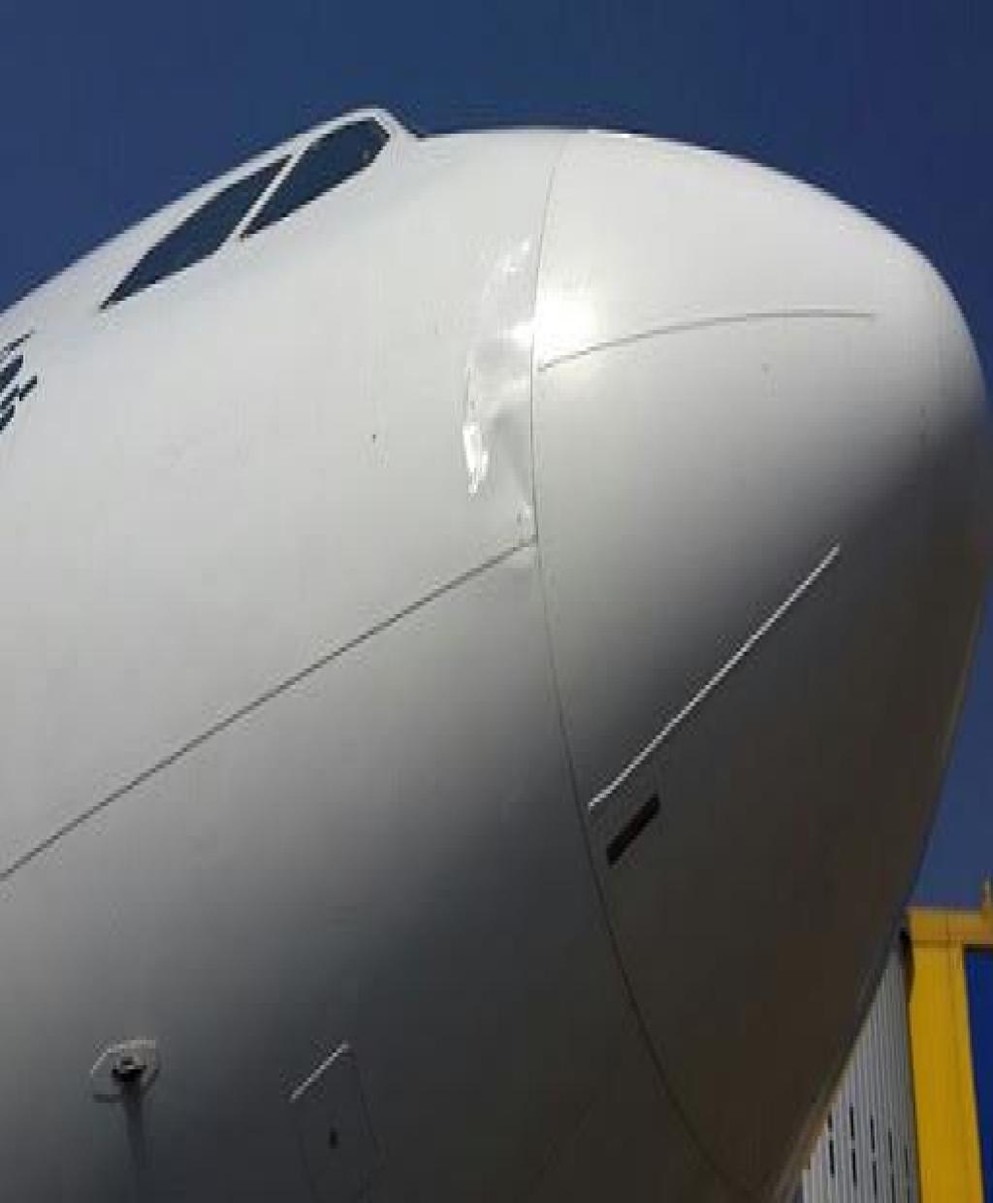dent: (463, 247, 537, 559)
